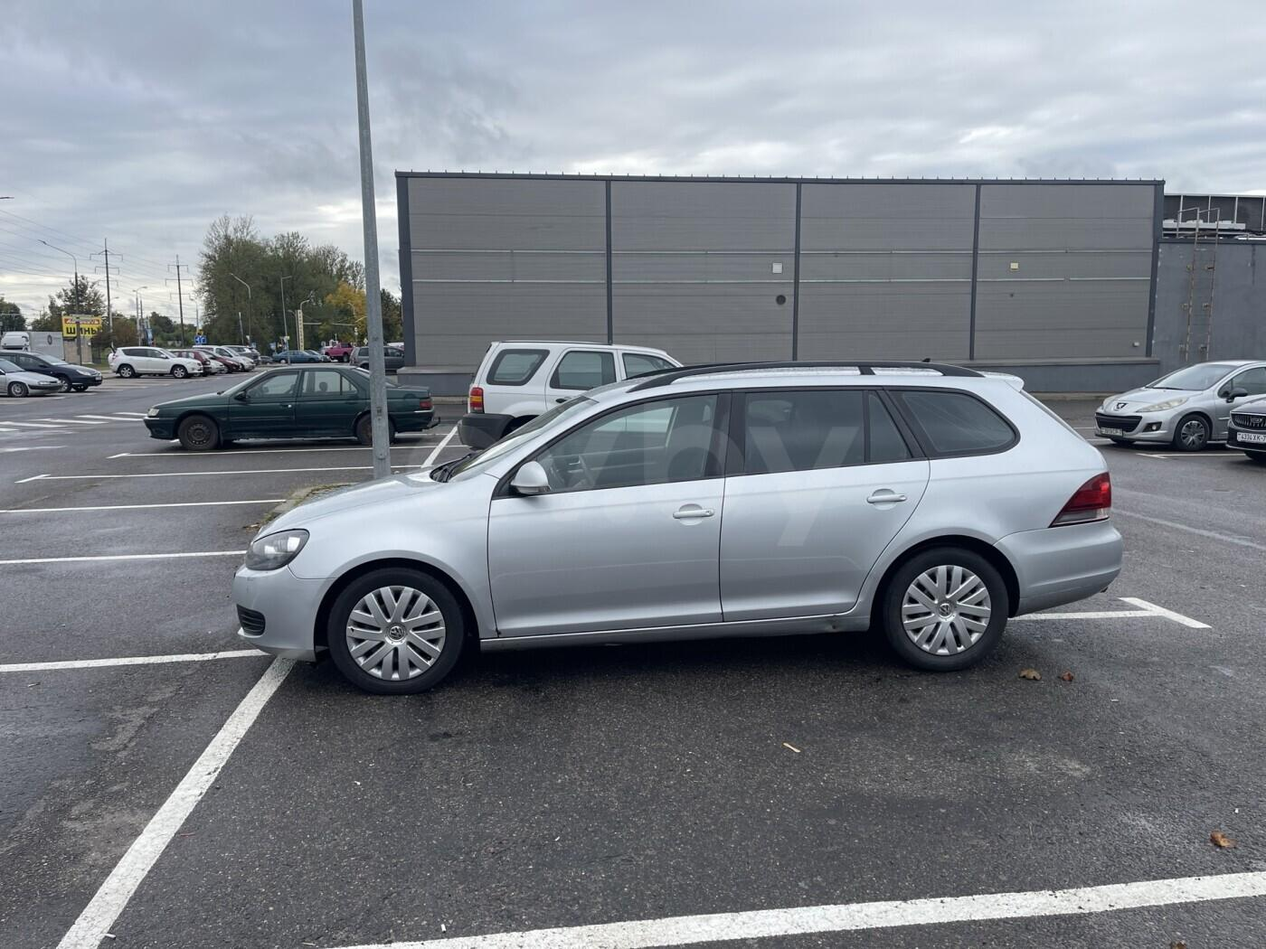Golf_2008-2013: (233, 358, 1126, 697)
